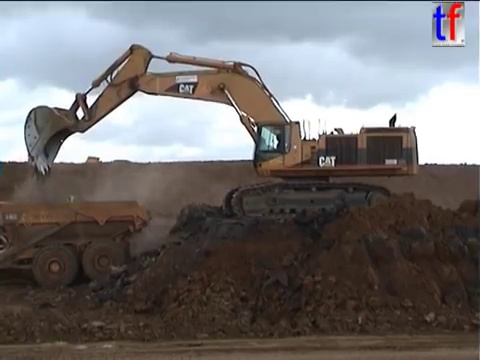excavator: (20, 41, 421, 226)
truck: (1, 198, 151, 290), (84, 155, 100, 171)
worker: (64, 189, 78, 216)
